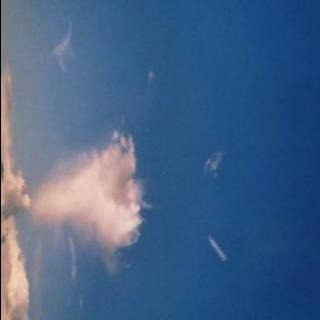Altocumulus: (0, 114, 155, 320)
